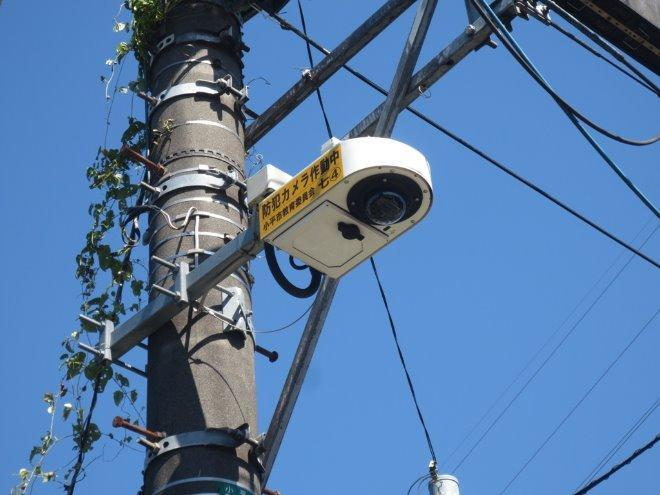maru: (258, 124, 438, 288)
